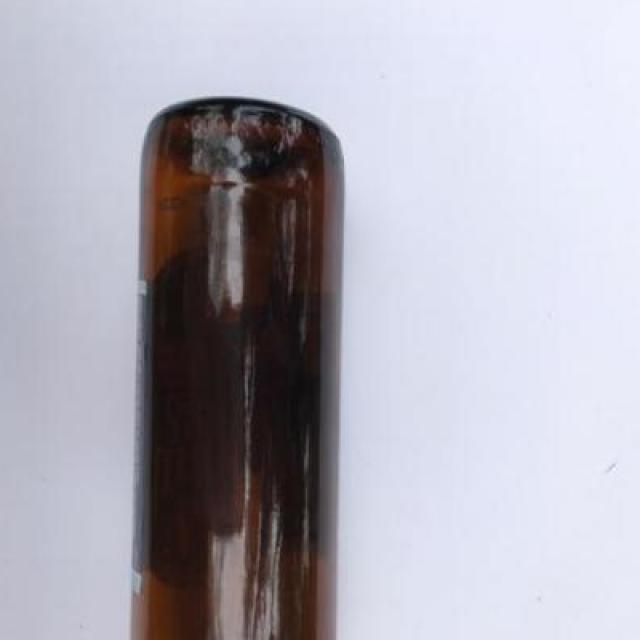kaca: (133, 94, 344, 640)
